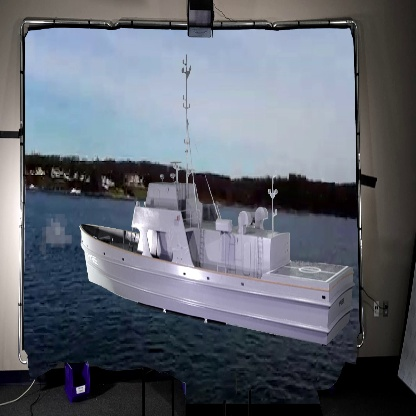YP689: (79, 61, 354, 350)
